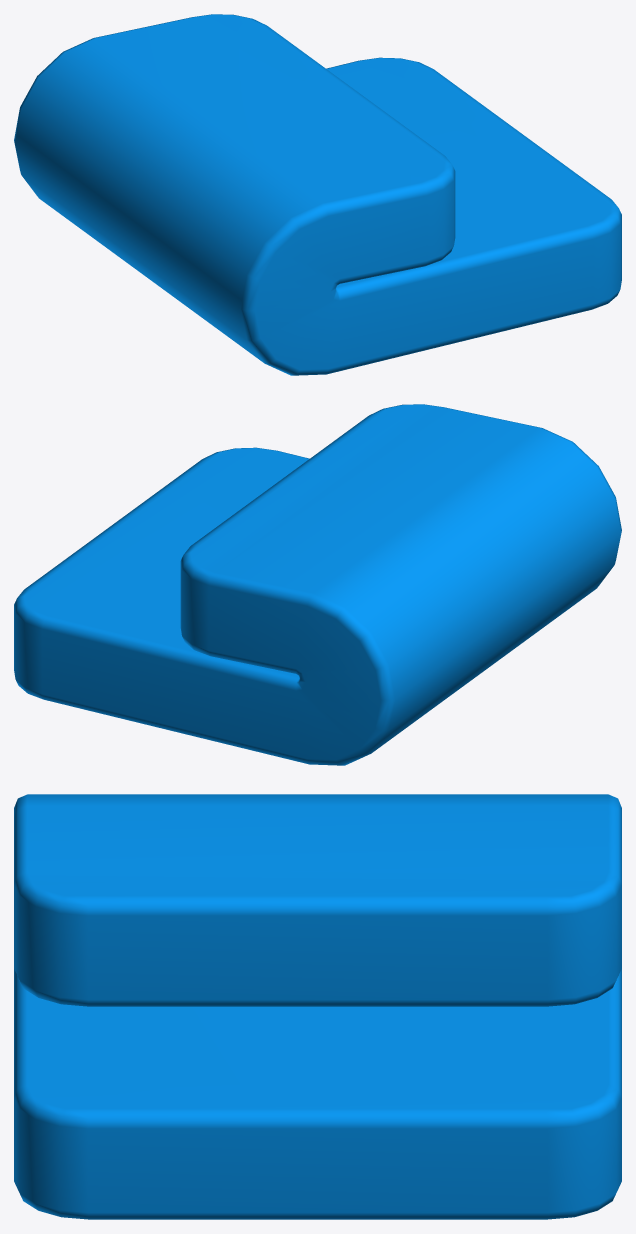
The model's file is Public_15_Towel_1.glb.
3 renders of one model, top to bottom at view 1: azimuth 30°, elevation 25°; view 2: azimuth 150°, elevation 25°; view 3: azimuth 270°, elevation 25°, orthographic. The views are drawn at different scales.
Parts seen in each view (by area): view 1: Public_15_Towel_1; view 2: Public_15_Towel_1; view 3: Public_15_Towel_1.
Boxes of the visible parts, x1,y1,x2,y2 form: Public_15_Towel_1: [14, 14, 621, 375]; Public_15_Towel_1: [14, 404, 621, 765]; Public_15_Towel_1: [14, 794, 621, 1219].
Size of the model in its own units: 1.38 by 0.569 by 1.42.
Materials: 1 (1 with a texture image).
